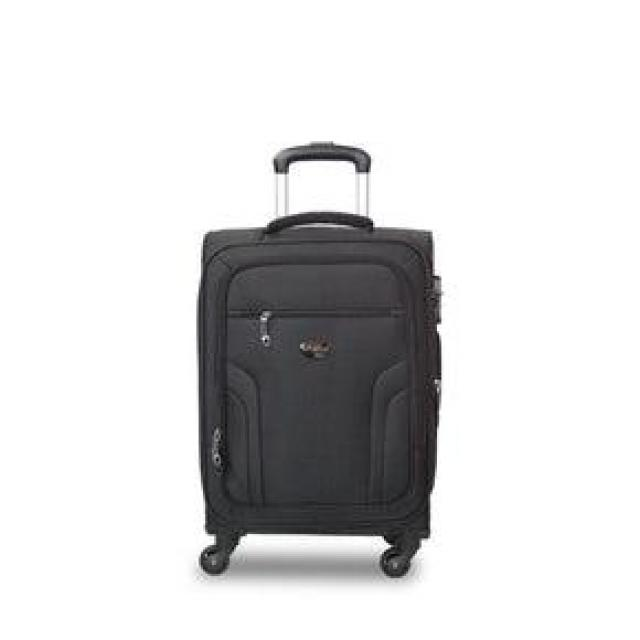luggage: (192, 216, 443, 545)
